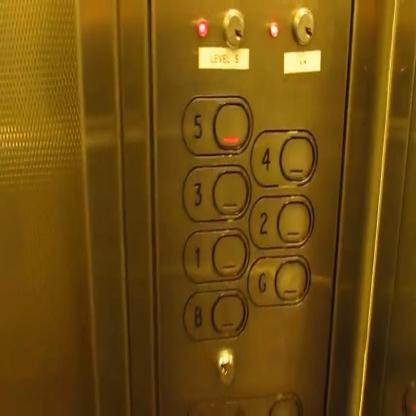1: (183, 226, 252, 284)
2: (247, 190, 315, 250)
3: (183, 160, 252, 224)
4: (249, 125, 318, 188)
5: (180, 91, 254, 157)
B: (181, 285, 249, 344)
G: (246, 252, 312, 308)
keyhole: (221, 6, 245, 50), (292, 6, 314, 45)
